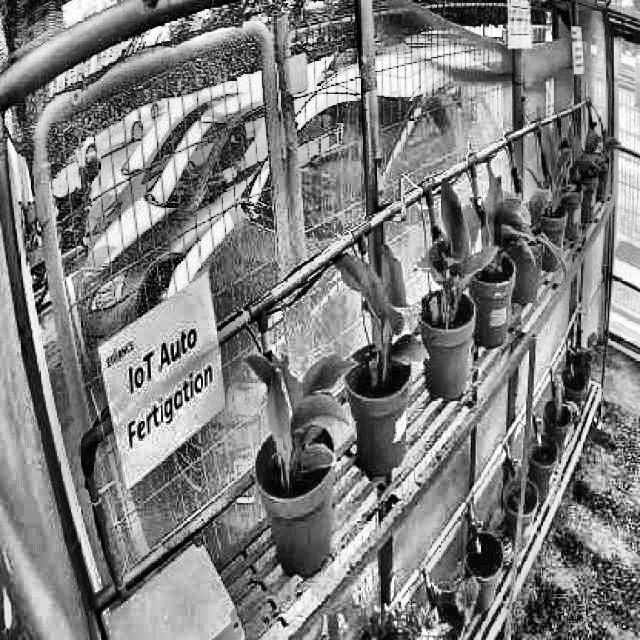plants: (242, 346, 352, 506), (332, 238, 430, 392), (414, 178, 498, 327), (468, 172, 542, 280)
